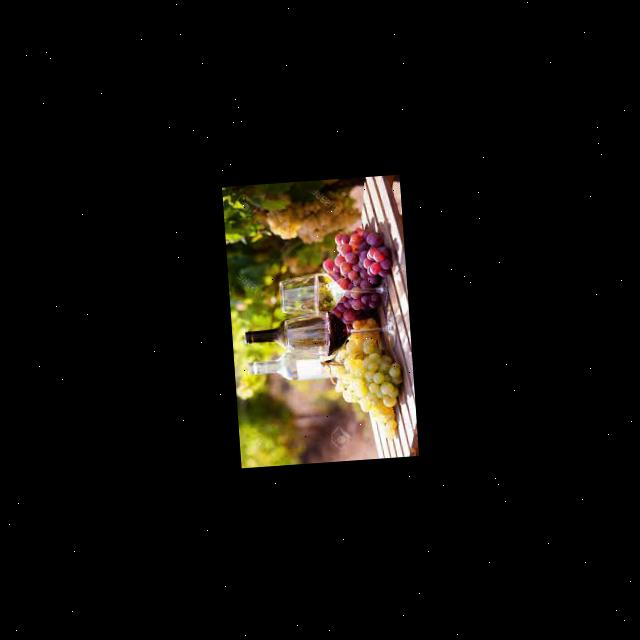grape: (325, 318, 403, 420), (320, 224, 396, 327)
